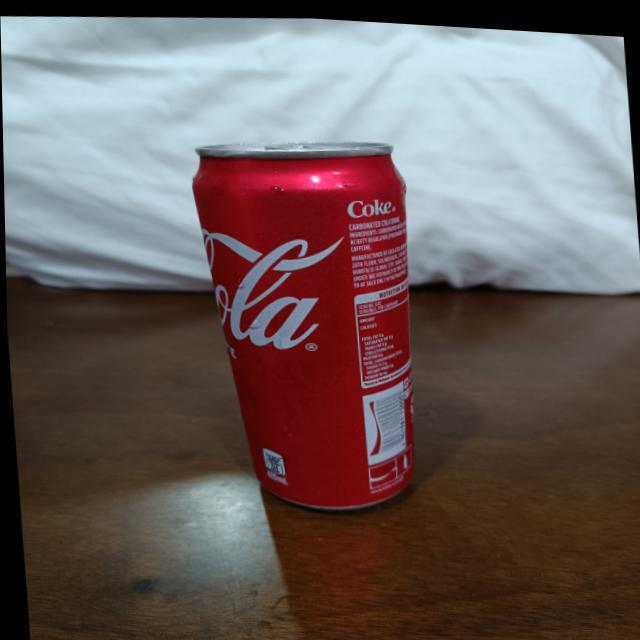coke: (192, 124, 431, 515)
